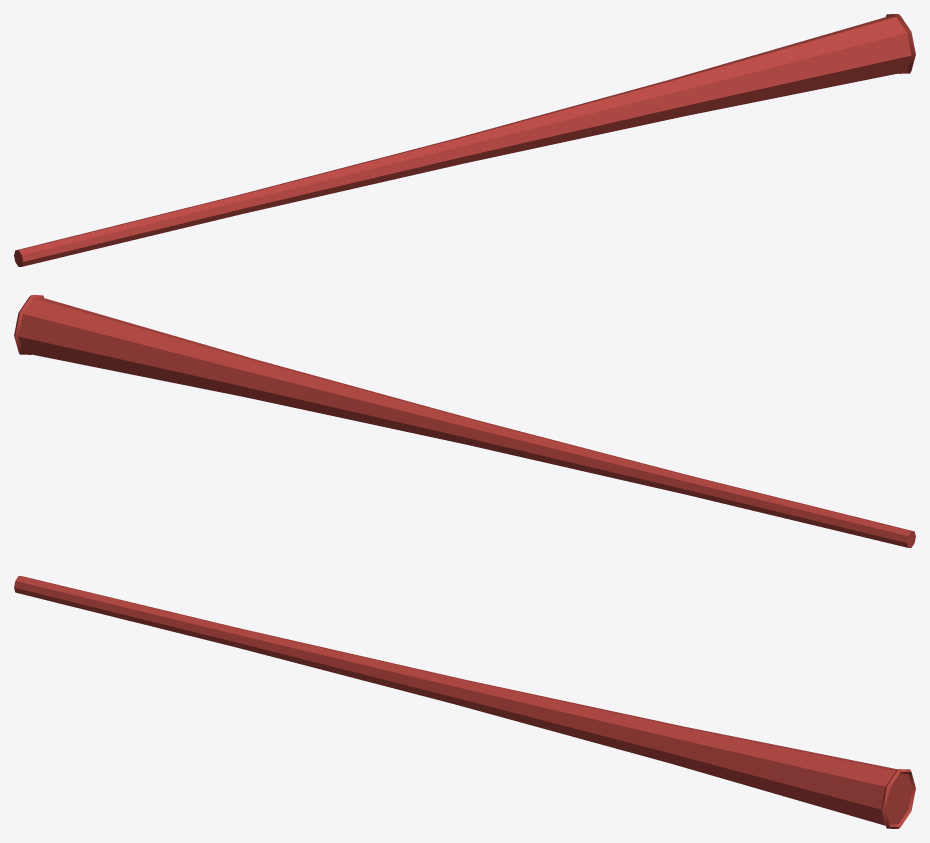
The model's file is trumpet_lod1.glb.
3 views of the same model, one above another, from view 1: azimuth 30°, elevation 25°; view 2: azimuth 150°, elevation 25°; view 3: azimuth 330°, elevation 25° (orthographic).
Parts seen in each view (by area): view 1: trumpet_lod1; view 2: trumpet_lod1; view 3: trumpet_lod1.
Part boxes in pixels (left/top/right/bottom): trumpet_lod1: left=14, top=14, right=915, bottom=266; trumpet_lod1: left=14, top=295, right=915, bottom=547; trumpet_lod1: left=14, top=576, right=915, bottom=828.
Size of the model in its own units: 1 by 0.065 by 0.065.
